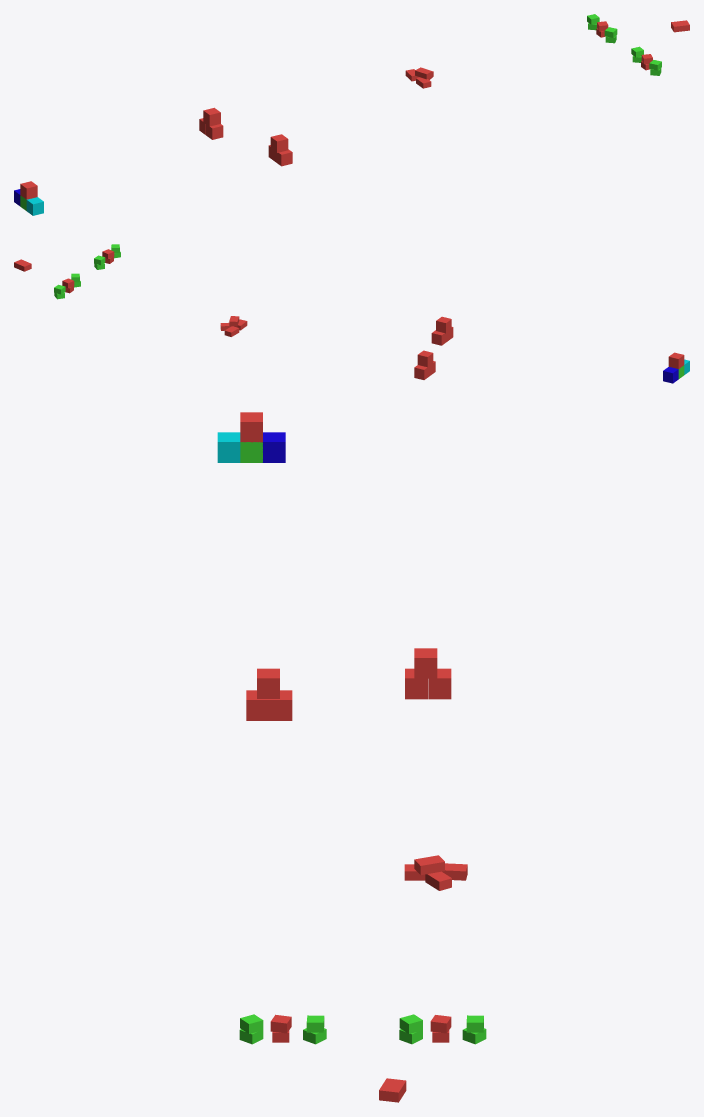
Rendered from boxes.fbx.
3 views of the same model, one above another, from view 1: azimuth 30°, elevation 25°; view 2: azimuth 150°, elevation 25°; view 3: azimuth 270°, elevation 25° (orthographic). The views are drawn at different scales.
Parts seen in each view (by area): view 1: no part large enough to name; view 2: Cube.025; view 3: no part large enough to name.
Part boxes in pixels (box(x1,y1,x2,y2)): Cube.025: box(417, 350, 433, 367).
Bounding box in the file's own units: 12720 × 720 × 2348.
